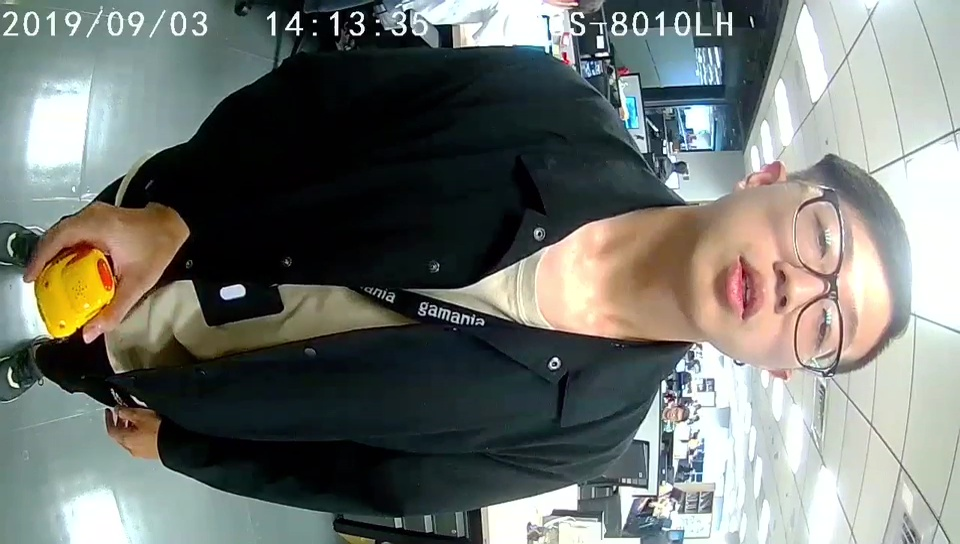car: (36, 240, 116, 338)
